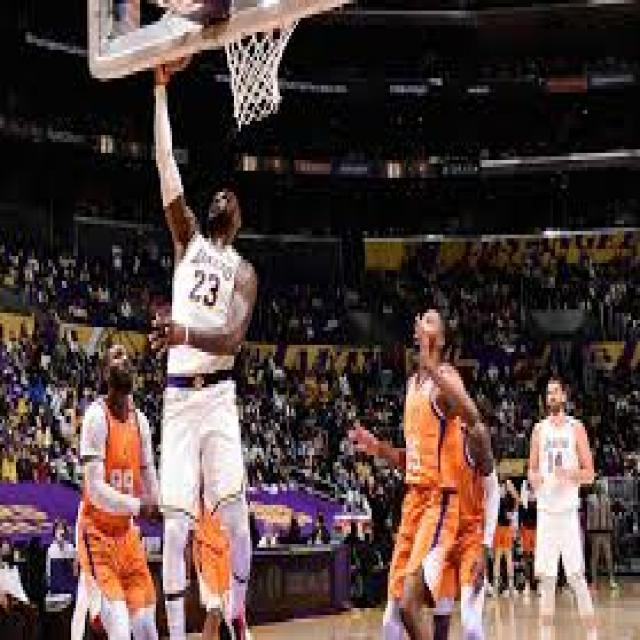rim: (160, 14, 192, 71)
